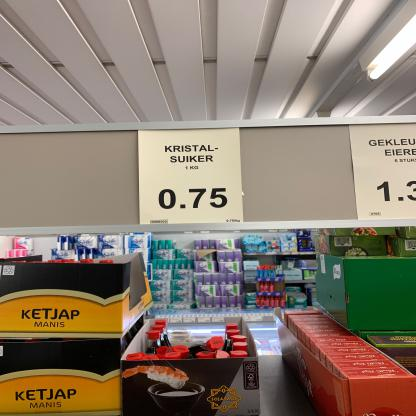prtg: (138, 128, 246, 226), (347, 124, 416, 223)
